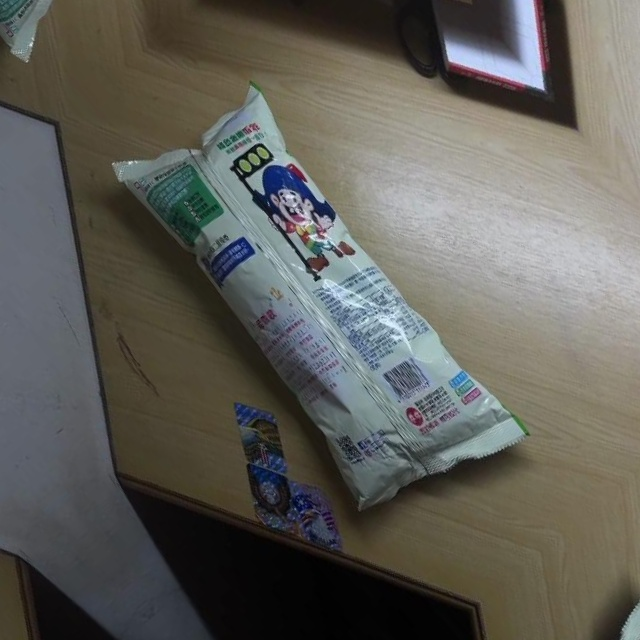Good-Luck: (84, 58, 543, 553)
